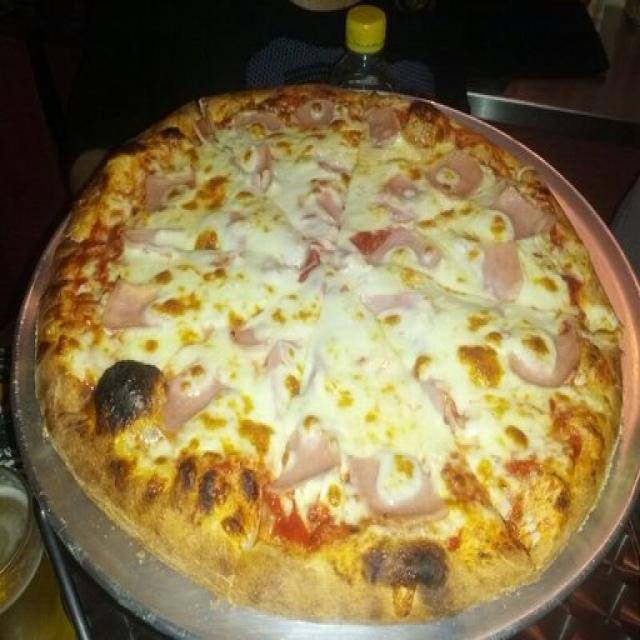Ham: (349, 457, 445, 520), (511, 322, 580, 384), (127, 224, 225, 260), (272, 437, 338, 488), (164, 373, 216, 433), (354, 227, 436, 264), (498, 184, 554, 235), (107, 275, 159, 329), (484, 237, 518, 296), (429, 144, 469, 194), (297, 234, 344, 271), (310, 181, 342, 223), (384, 170, 416, 208), (371, 107, 400, 147), (362, 294, 420, 314), (297, 97, 335, 127), (238, 112, 282, 136), (147, 170, 174, 206), (221, 325, 263, 346), (428, 383, 453, 413), (254, 143, 270, 184), (190, 116, 212, 143), (262, 347, 282, 370)
Pizza: (36, 85, 622, 625)
